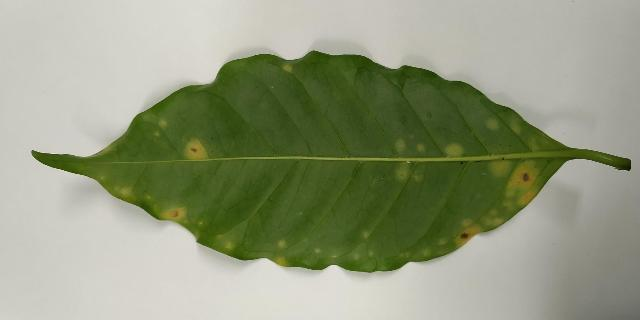miner: (454, 210, 505, 249), (503, 158, 540, 211), (184, 138, 211, 159), (161, 204, 186, 223), (491, 160, 510, 176), (445, 143, 463, 156), (397, 162, 408, 181), (272, 255, 288, 266), (528, 138, 539, 152), (395, 139, 405, 154), (511, 122, 521, 134), (487, 119, 498, 129), (119, 188, 130, 196), (158, 118, 167, 127), (352, 250, 360, 260), (399, 252, 411, 258), (282, 64, 292, 71), (278, 240, 286, 248), (422, 249, 429, 256), (438, 238, 446, 244), (413, 174, 420, 180), (418, 144, 424, 151), (363, 232, 369, 238), (315, 248, 321, 253), (226, 243, 231, 248), (331, 254, 336, 258), (156, 132, 159, 136), (370, 251, 372, 255), (195, 234, 197, 237), (193, 220, 195, 221), (192, 232, 193, 233), (189, 230, 190, 231), (198, 238, 198, 239), (192, 232, 192, 232), (185, 227, 186, 227)
